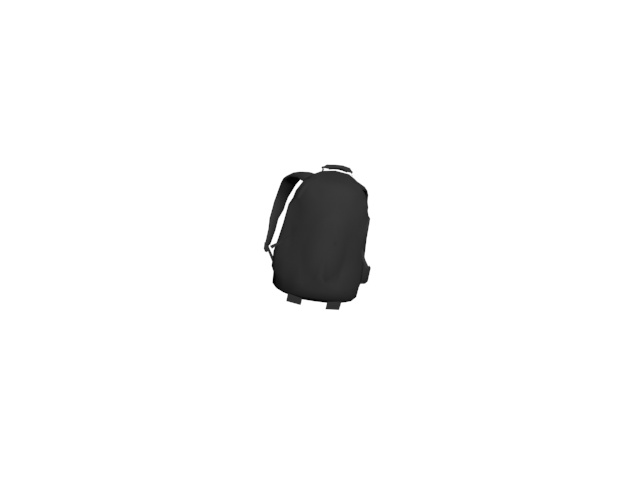back_pack: (258, 161, 376, 312)
